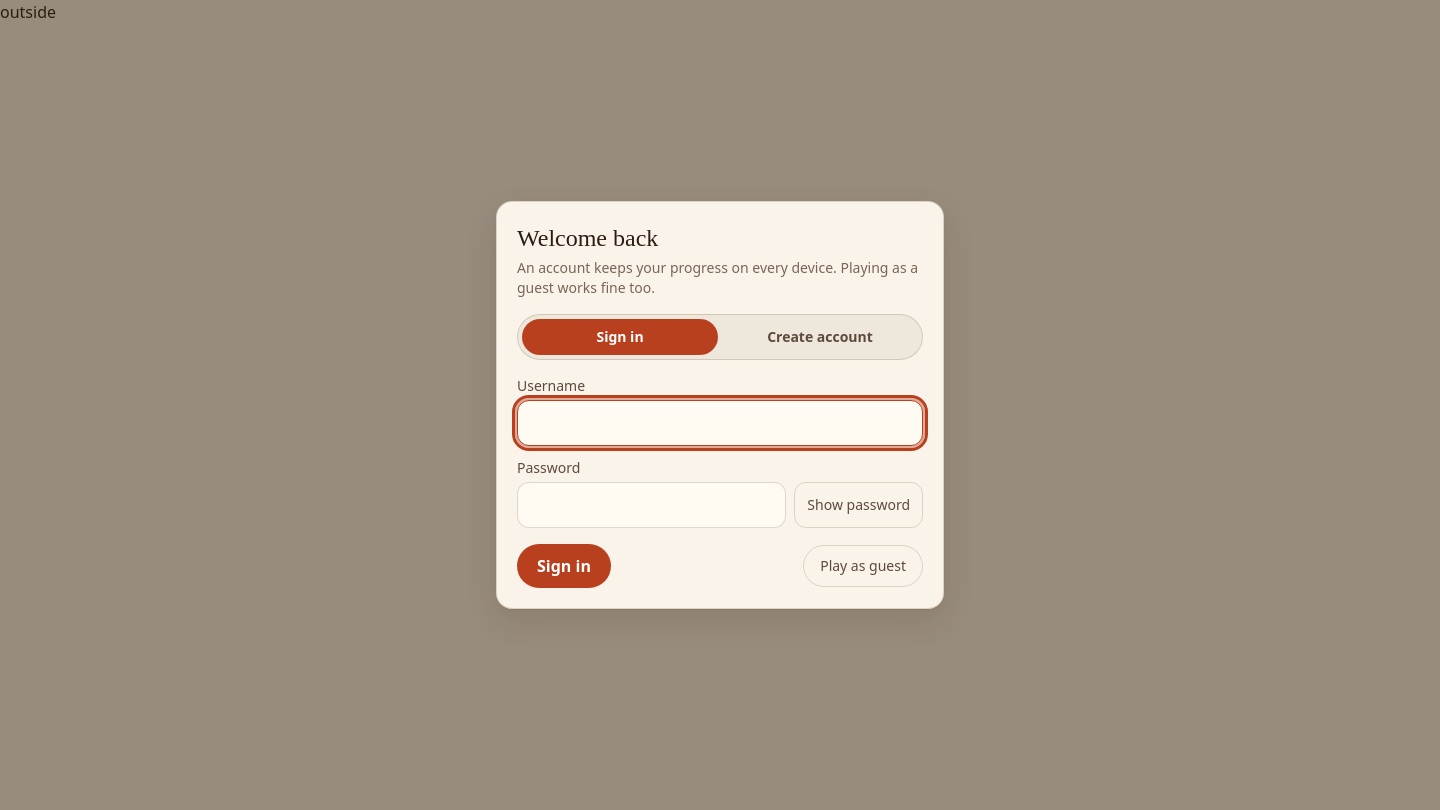
AuthDialog › shows a taken username inline
Click the tab "Create account": (820,337) [722,319,918,355]
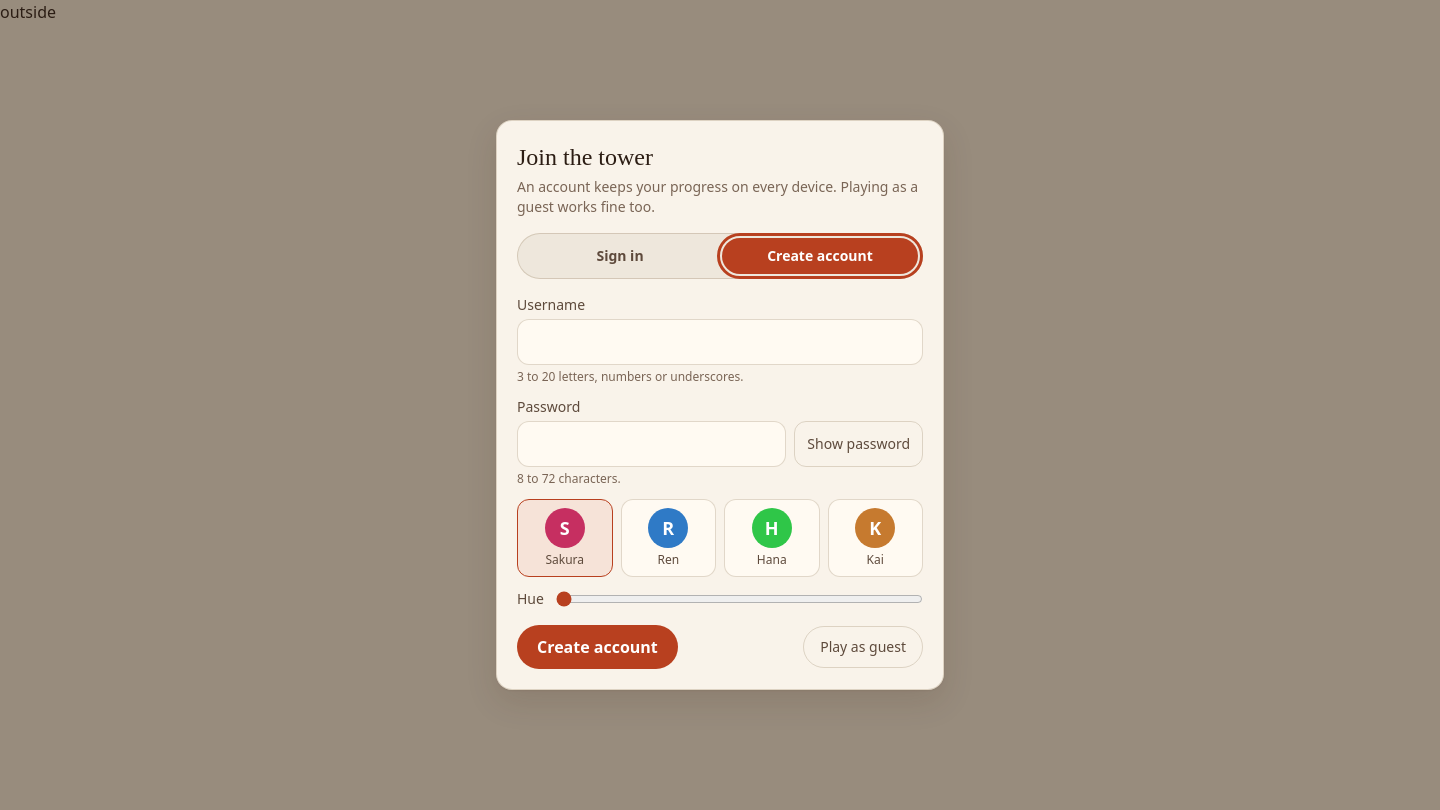
In the field labelled "Username": (720,342) [517,319,923,365], type "hao_1"
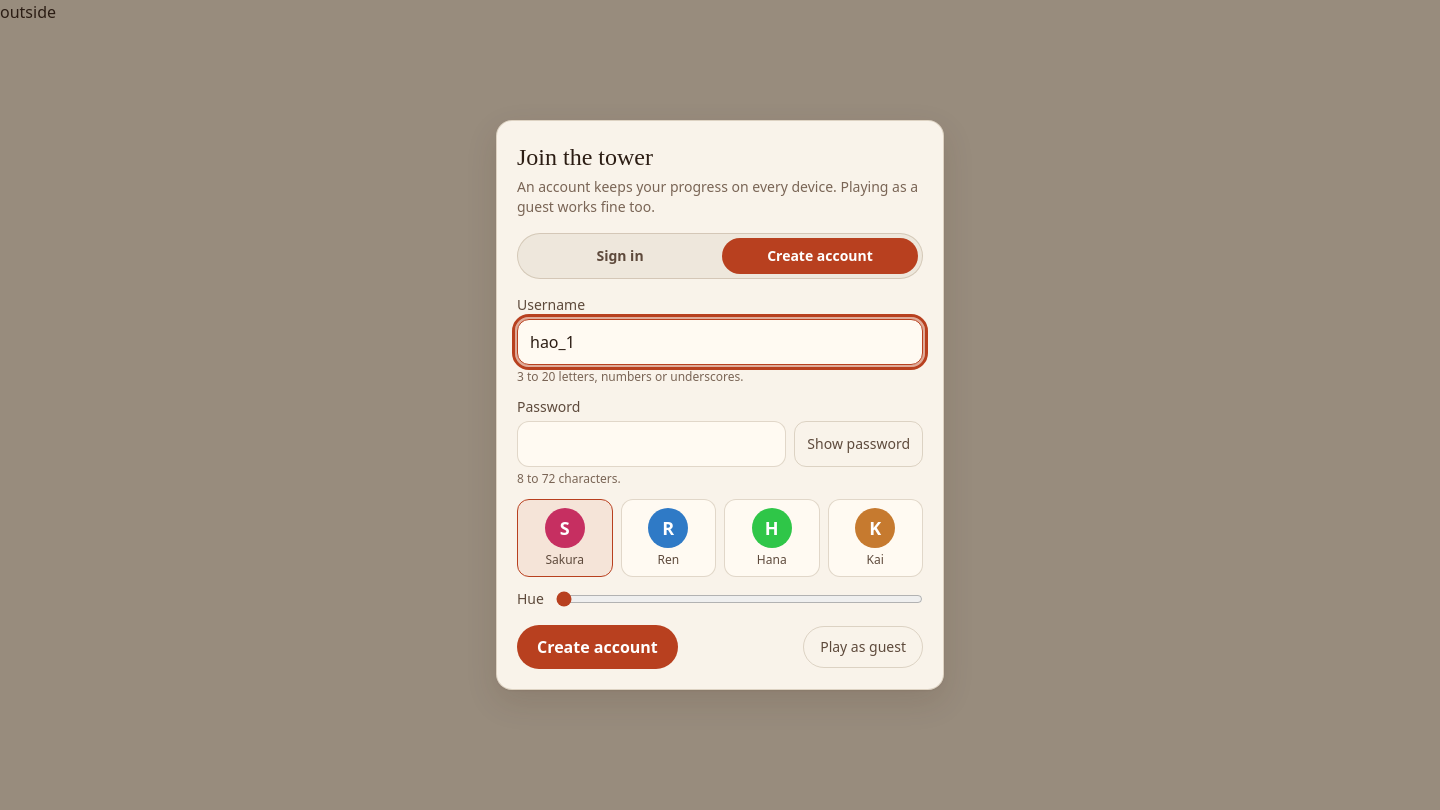
In the password field labelled "Password": (652,444) [517,421,786,467], type "password1"
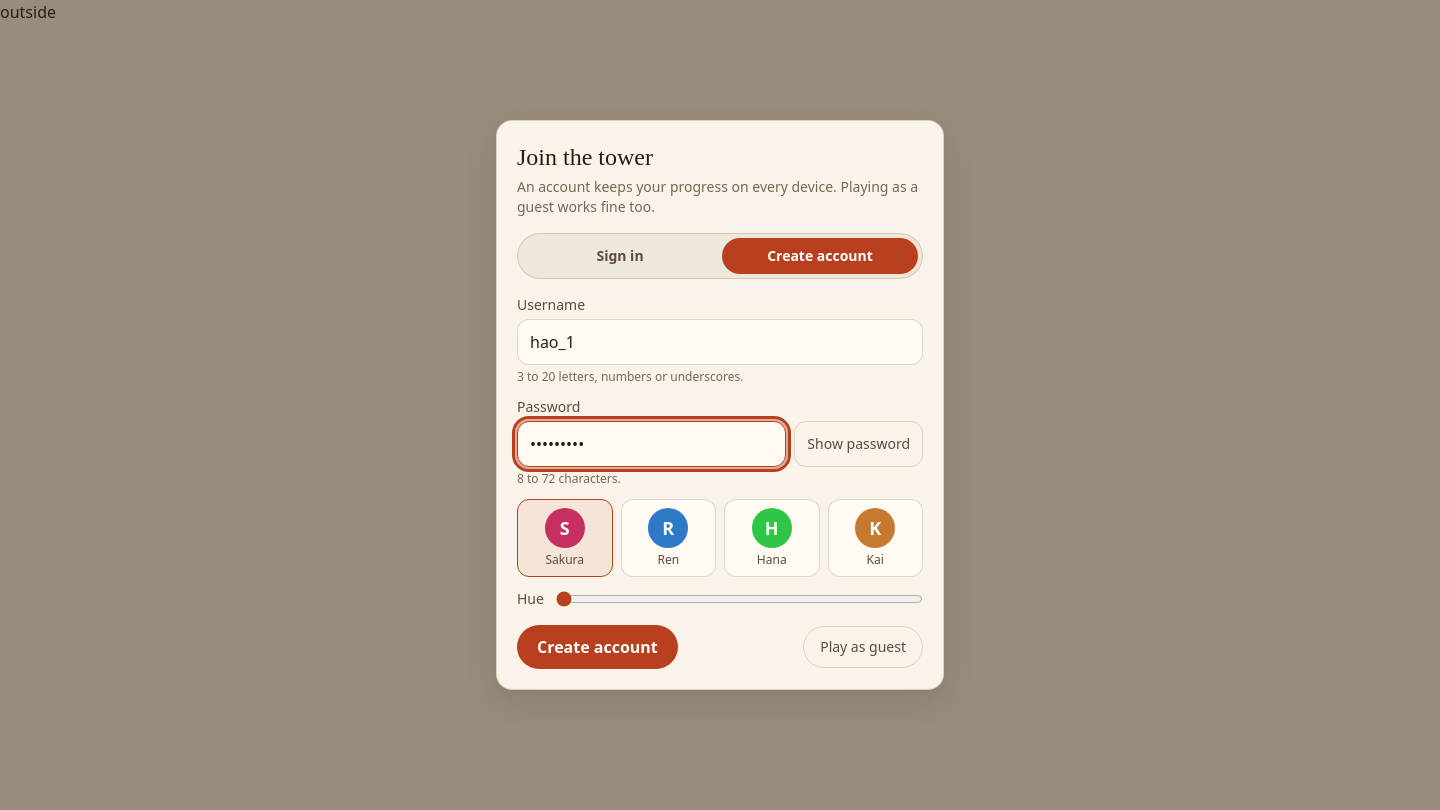
Click the button "Create account": (597,647) [517,625,678,669]
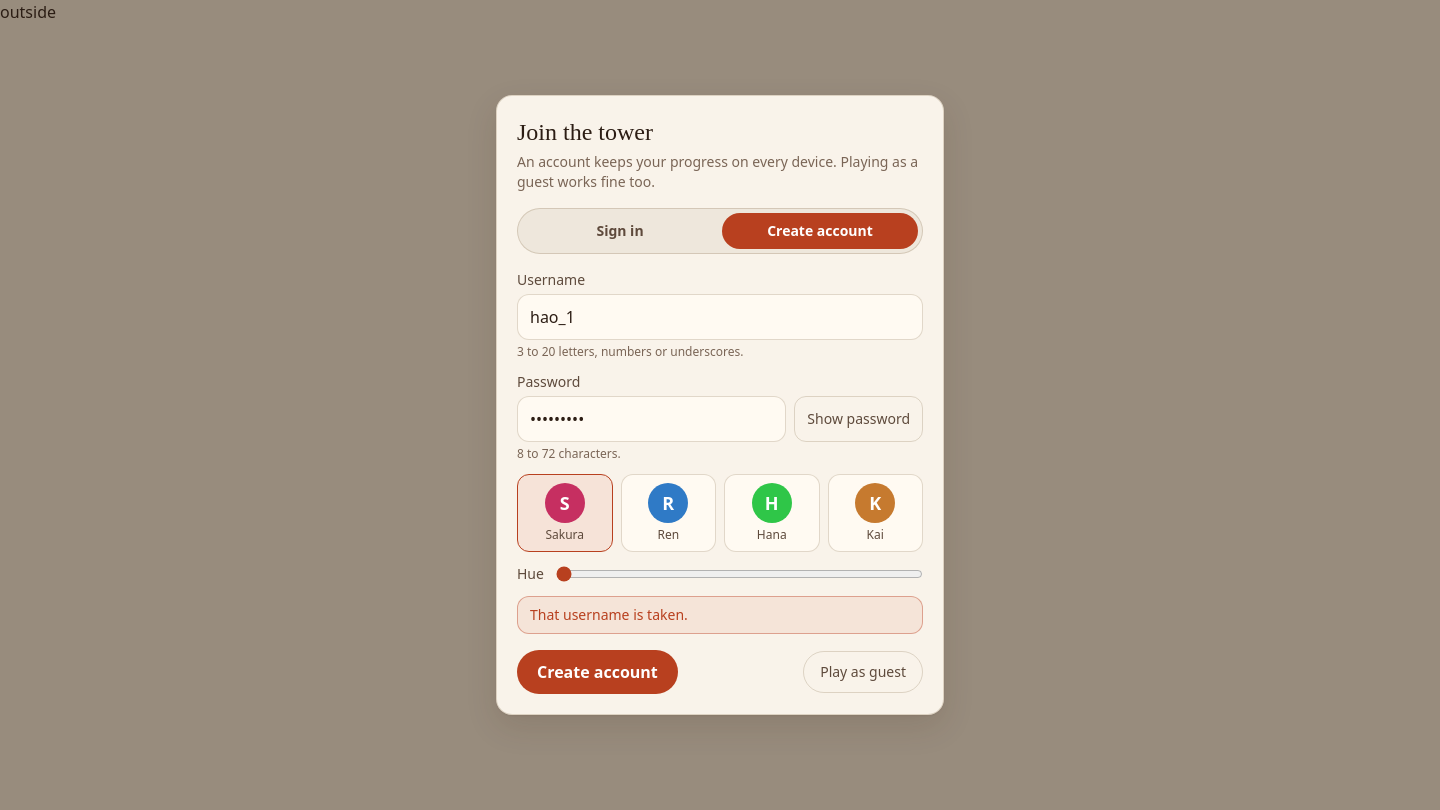
Now the message shows "taken", box [530,605,688,624]
